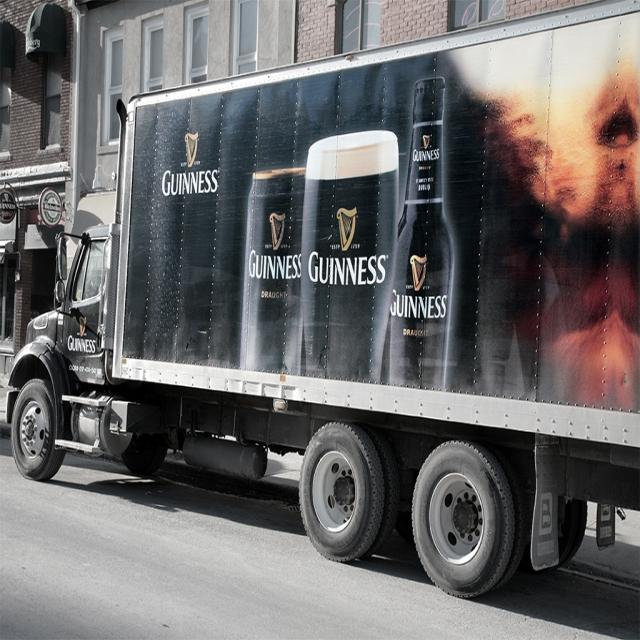guiness: (307, 206, 392, 288), (159, 131, 222, 201), (390, 252, 450, 323), (247, 211, 303, 281), (68, 317, 98, 356), (413, 133, 442, 163)
